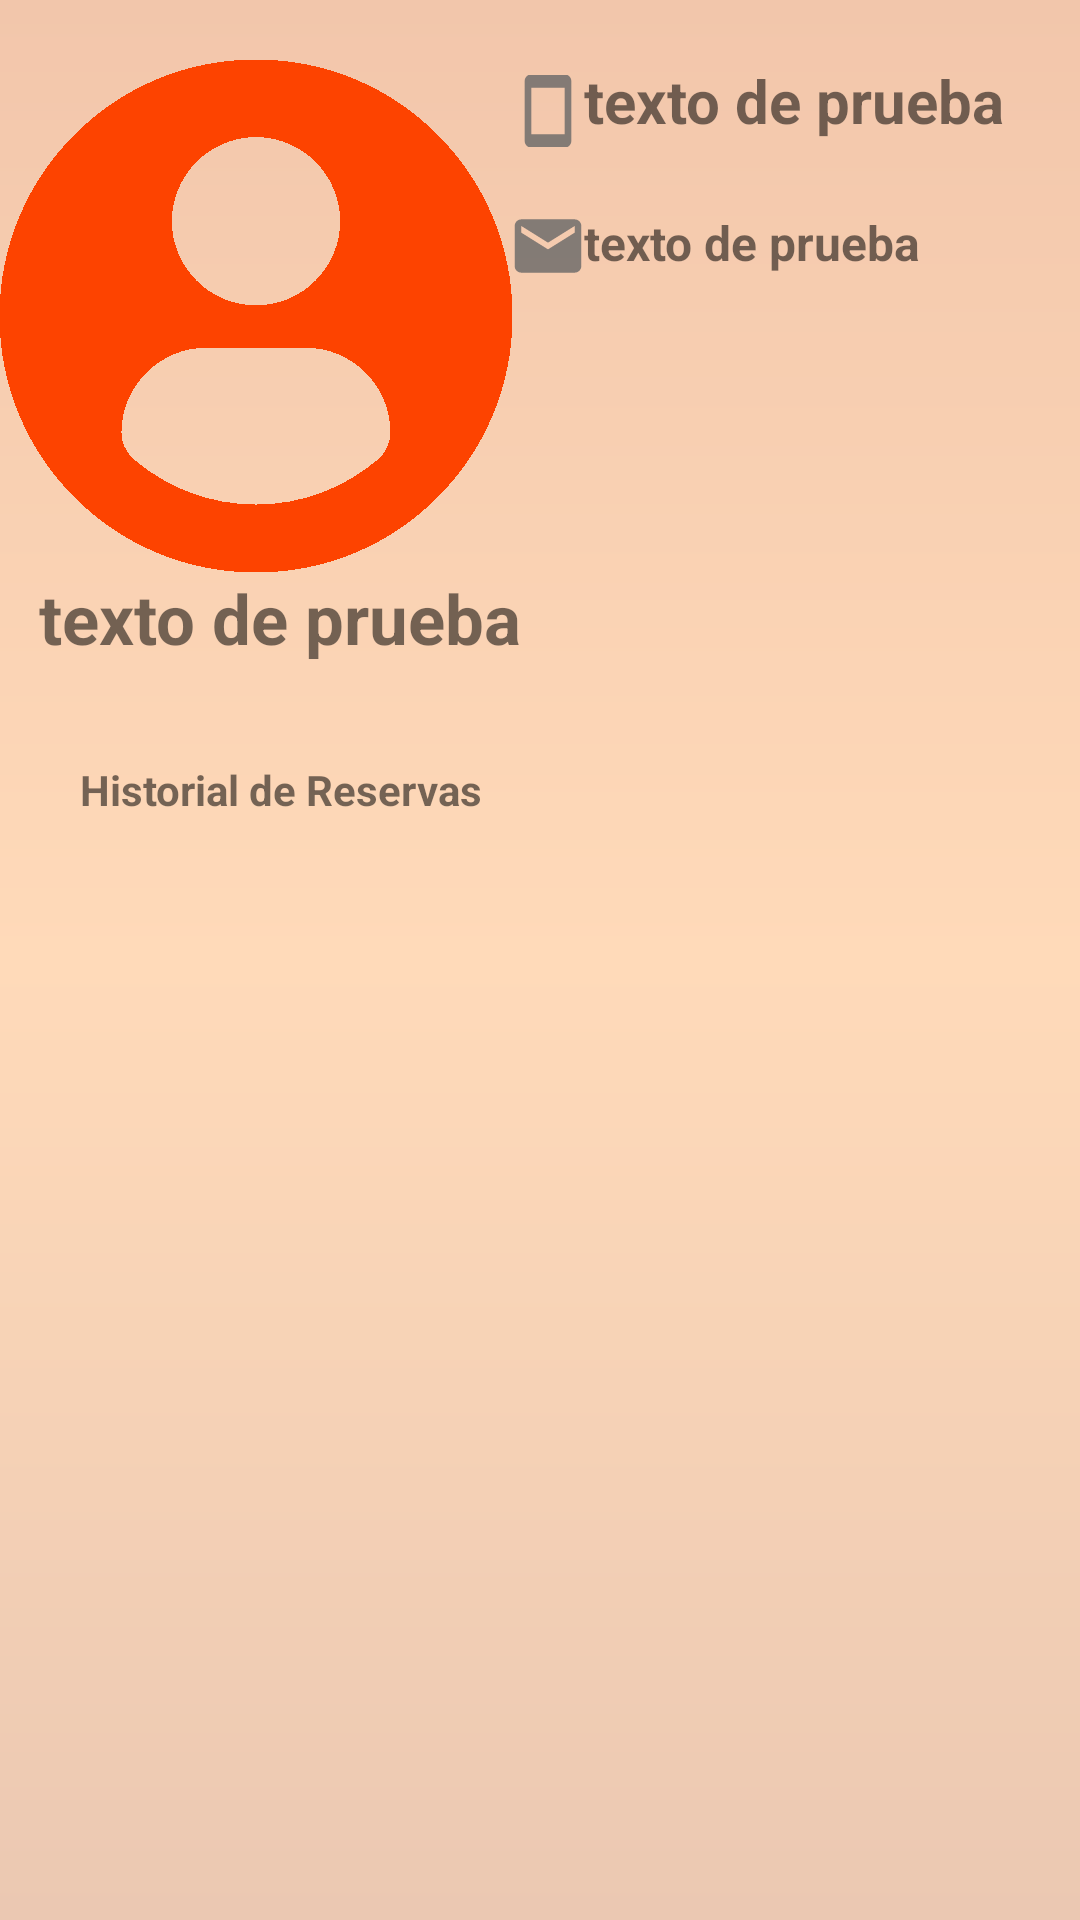

Icons on this 1080px×1920px Android screen, each with its box as (x1, y1, x2, y2):
celular perfil cliente: (524, 75, 572, 147)
correo perfil cliente: (514, 219, 582, 273)
